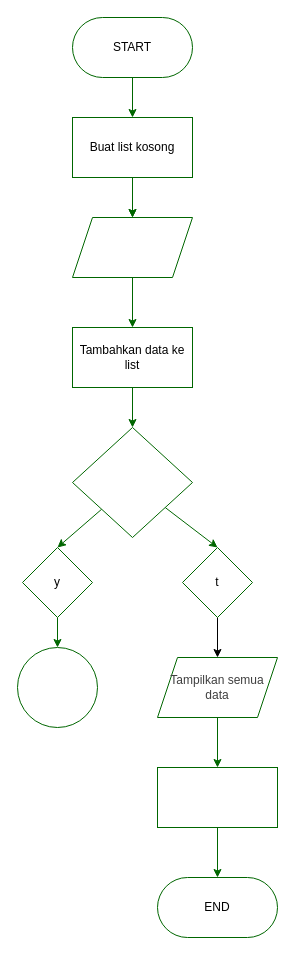
Image size: 295x955. Some labels were removed from this diagram. The centre of each missing label's shape, as x and y in pixels:
"Hitung nilai akhir: tugas*30% + uts*35% + uas*35%" goes at (217,797).
"Kembali ke Input Data" goes at (57,687).
"Minta input data" goes at (132,247).
"Tambah data lagi? (y/t)" goes at (132,482).
